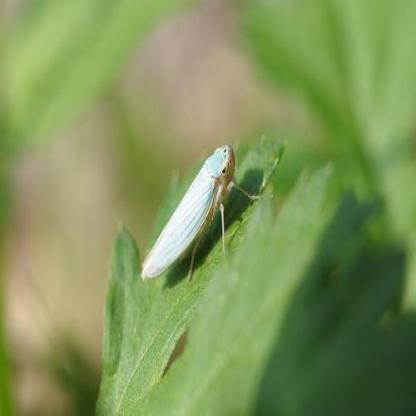Green-Leafhopper: (139, 140, 265, 284)
